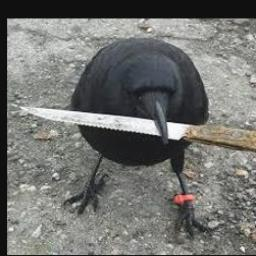Crow: (61, 37, 214, 238)
